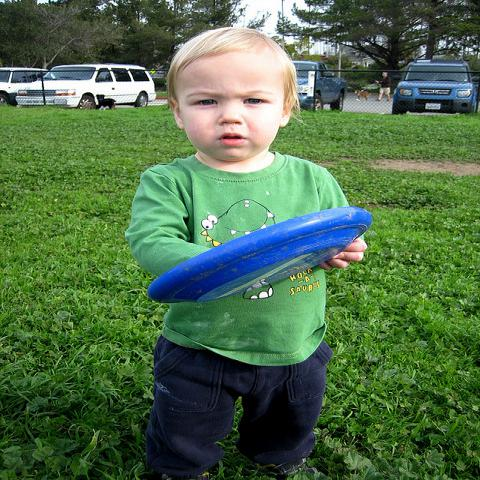car: (19, 62, 156, 109), (390, 59, 478, 117), (0, 67, 50, 104)
truck: (292, 59, 348, 114)
